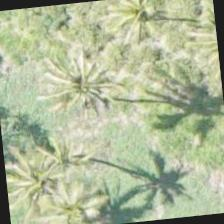Kelapa_Sawit: (38, 36, 136, 135), (2, 127, 83, 223), (115, 0, 213, 68), (41, 159, 138, 223)
